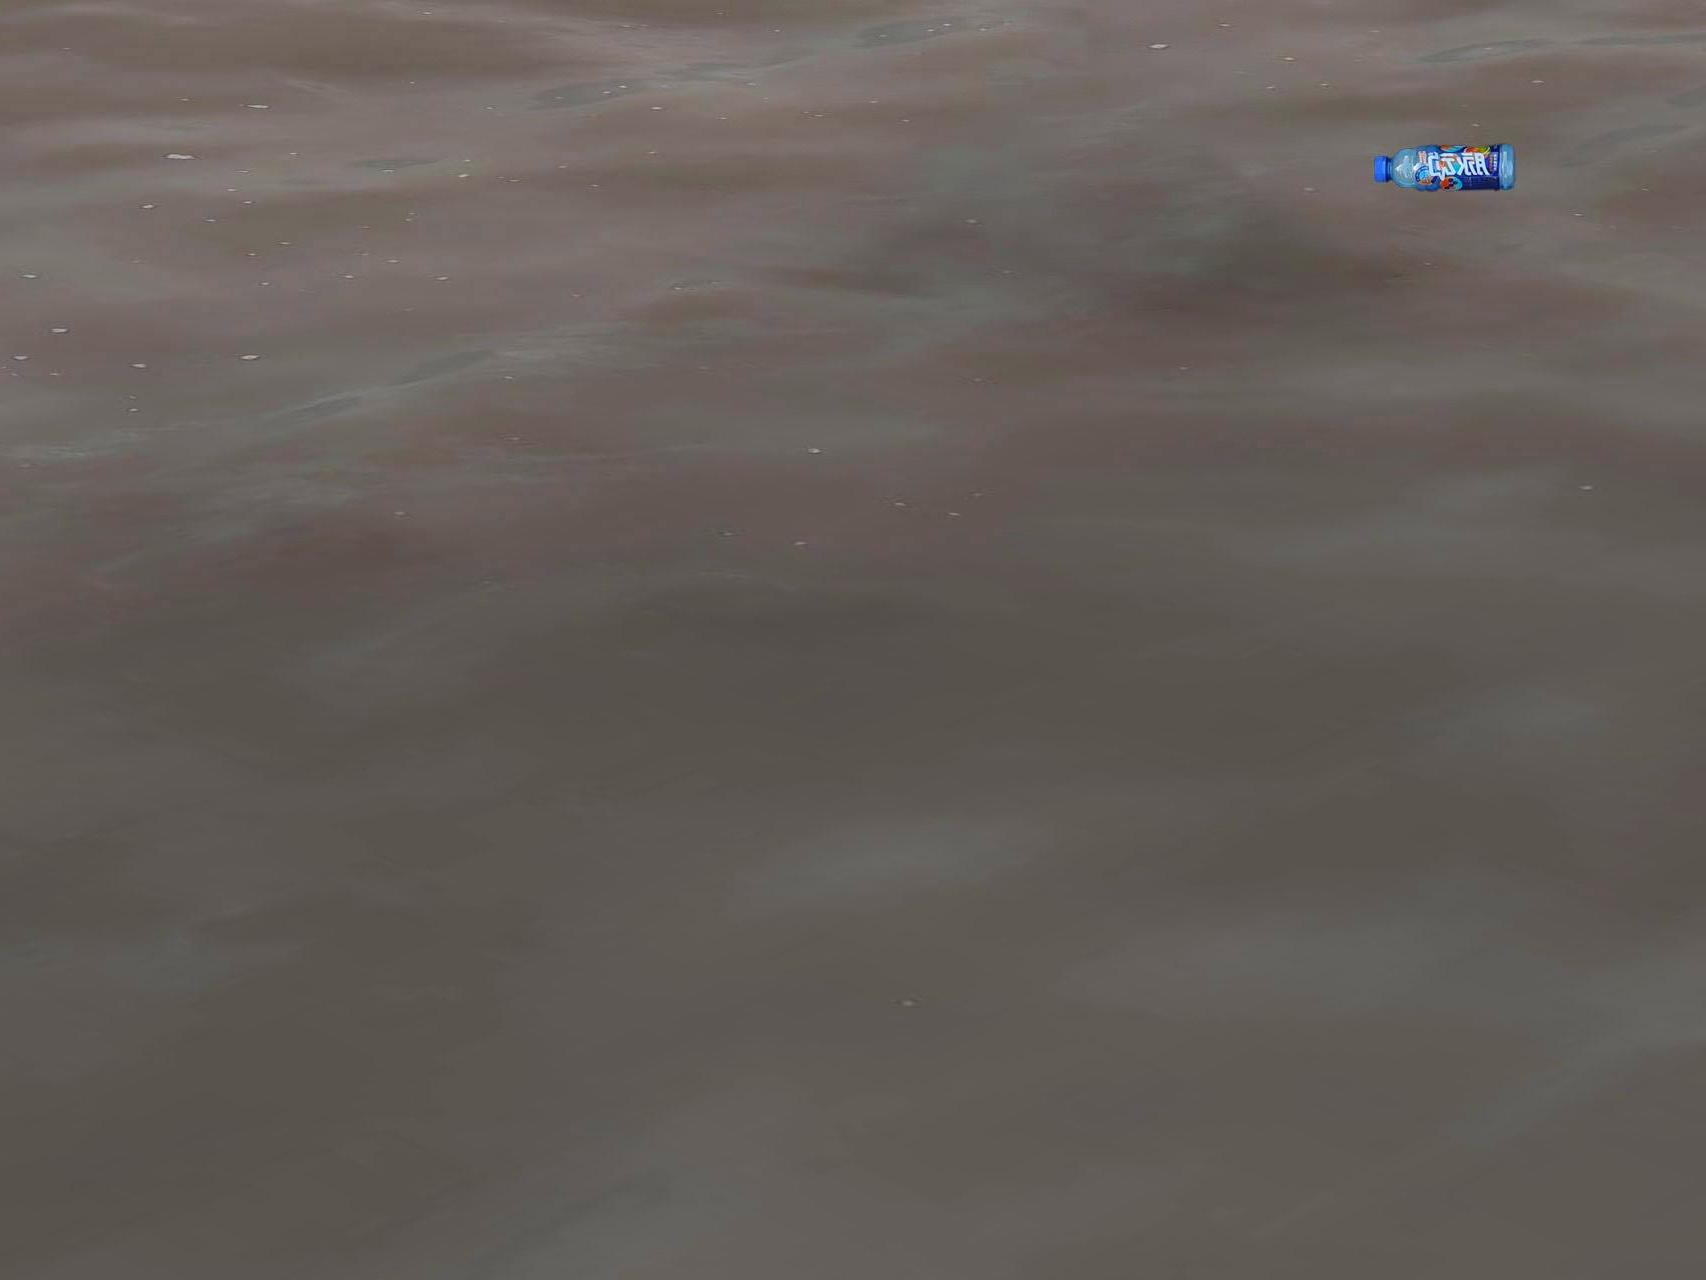Plastic: (1373, 141, 1523, 190)
